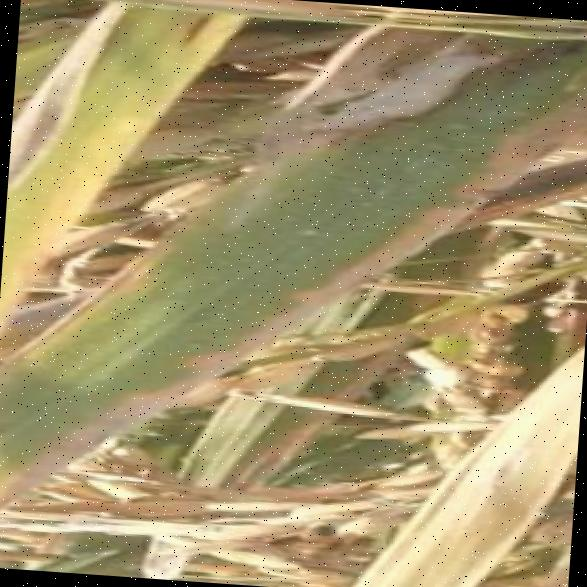Bacteria_Leaf_Blight: (0, 282, 210, 452)
